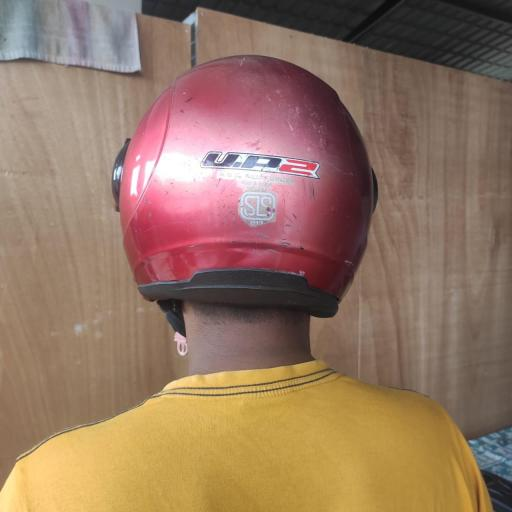with helmet: (110, 54, 380, 319)
